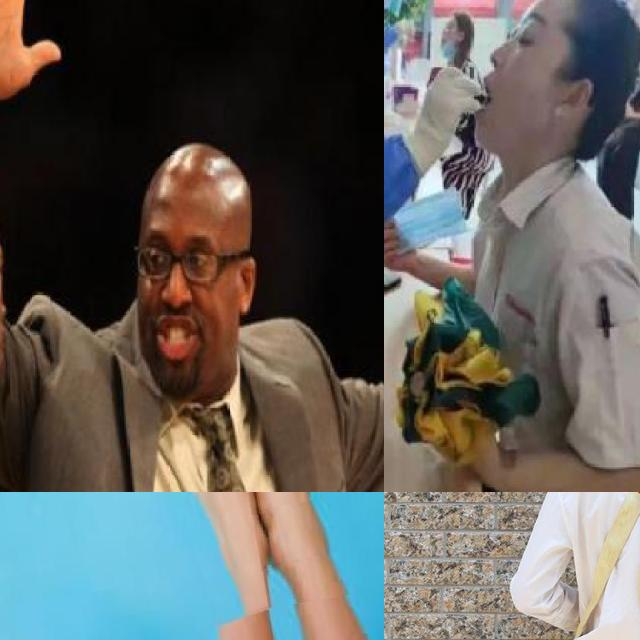Barefoots: (182, 492, 275, 583)
Harness: (554, 492, 640, 640)
No_Ear-Protection: (555, 78, 593, 126)
No_Glasses: (504, 7, 556, 69)
face_nomask: (135, 202, 235, 386), (473, 0, 567, 166), (0, 225, 21, 408)
glasses: (128, 242, 230, 288)
hand_glove: (413, 63, 481, 154)
hand_noglove: (0, 0, 58, 102), (384, 217, 414, 277)
head_nohelmet: (140, 137, 256, 214), (549, 0, 640, 76)
person: (0, 0, 384, 492), (0, 109, 35, 492)
